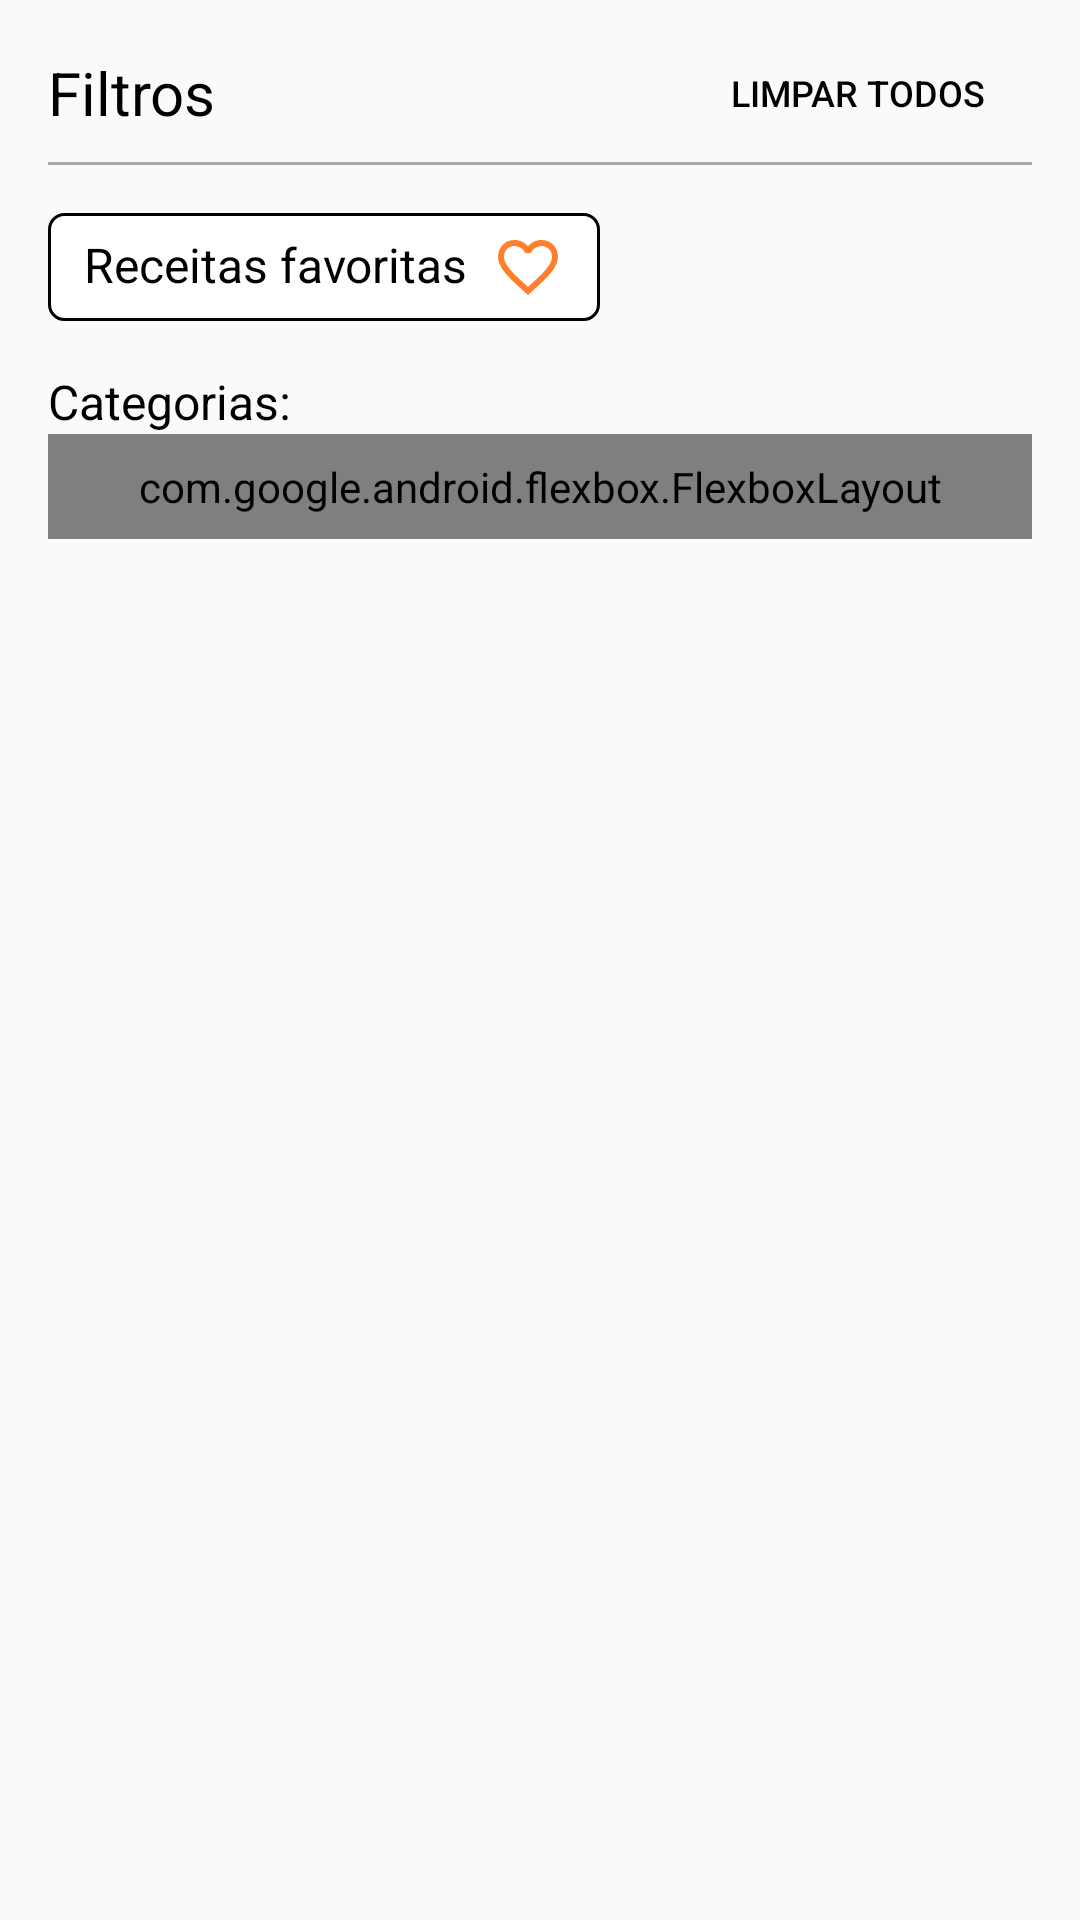

Screen size 1080 x 1920. Icon name, then its box in pixels as box=[x1, y1, x2, y2]:
favourite: box=[498, 240, 558, 295]
